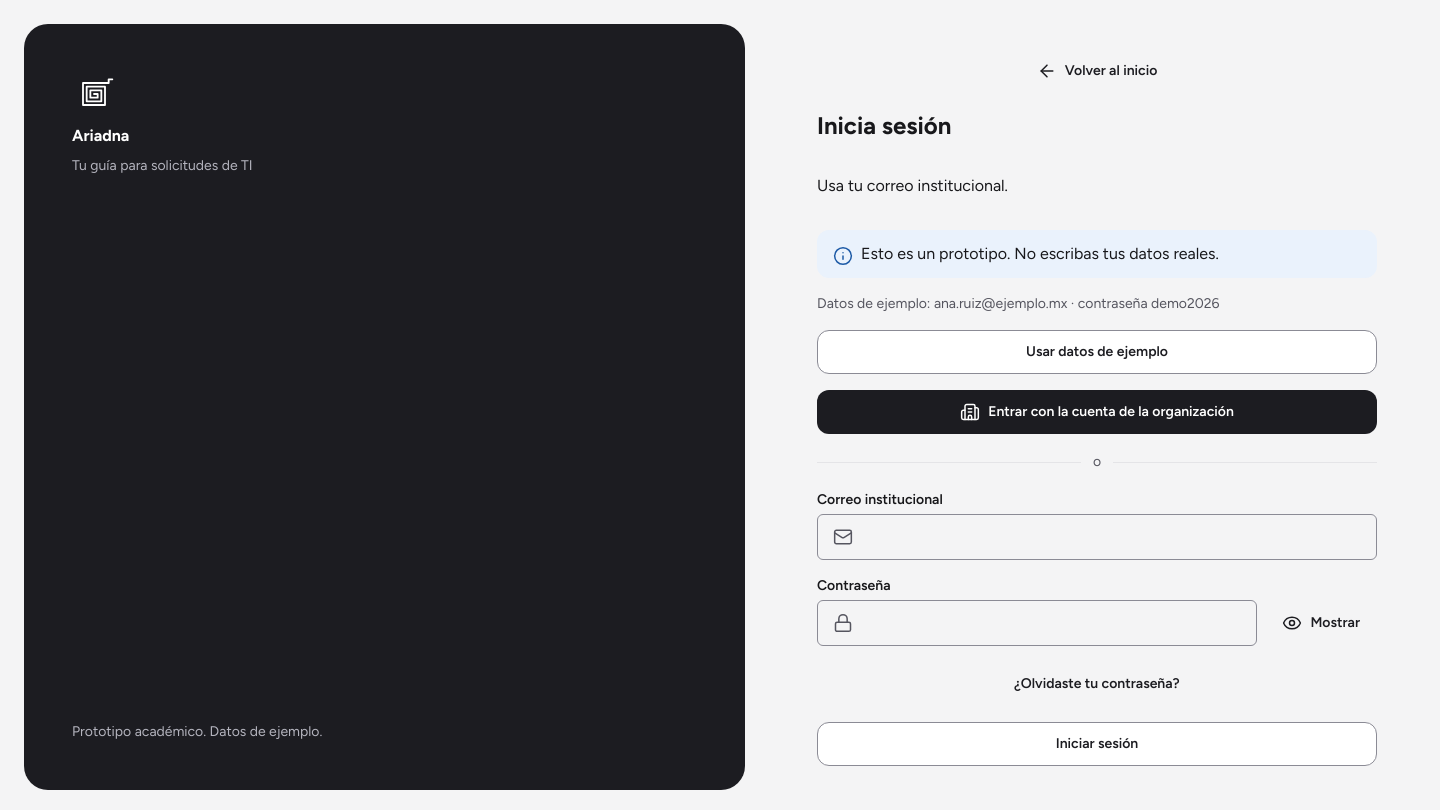
/entrar page › A2 chooser: info note alert, no primary button, ghost «Usar otra cuenta» (REQ-A2-M1)
The width and height of the screenshot is (1440, 810).
Click the button "Entrar con la cuenta de la organización".
click(1097, 412)  # box 817,390 -> 1377,434
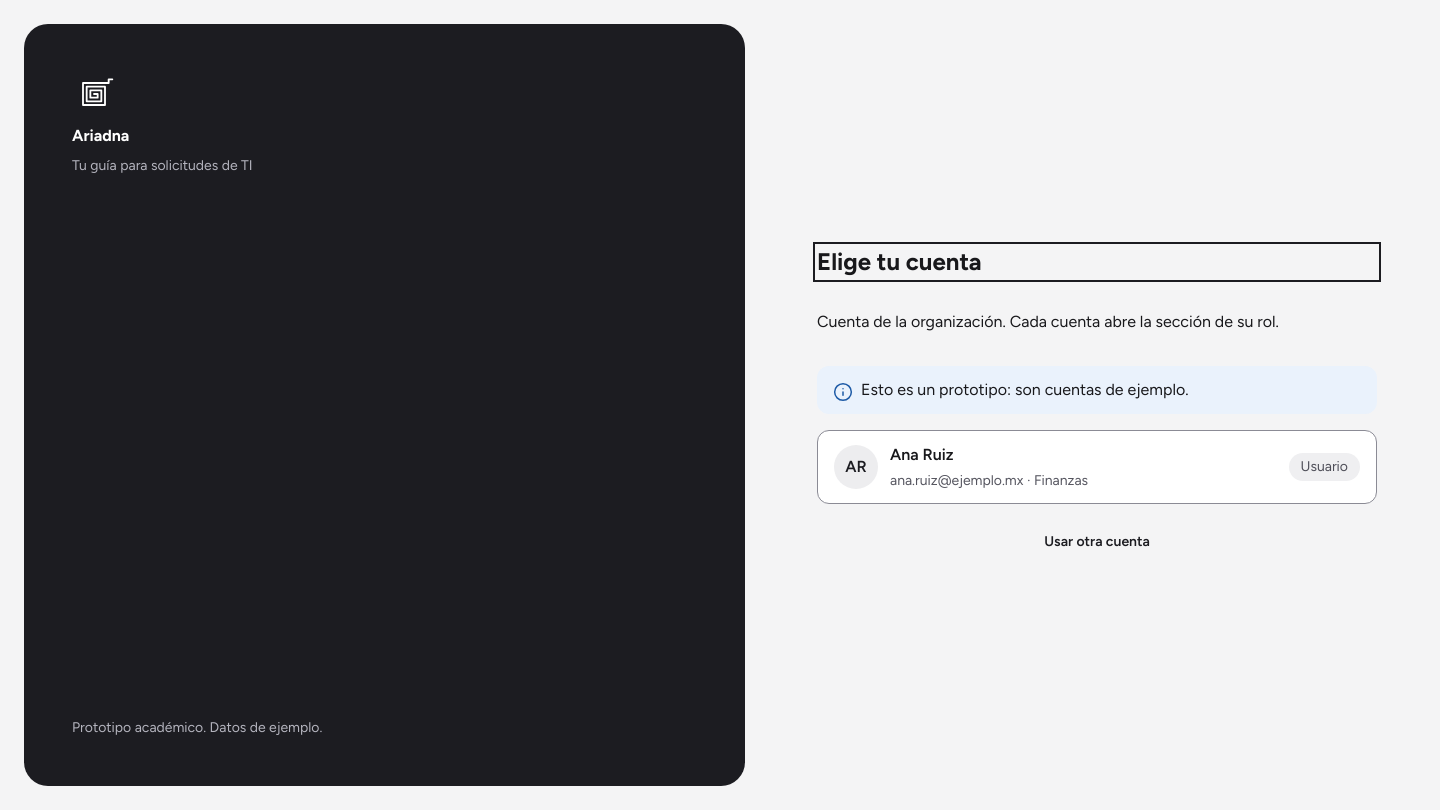
Expected: the icon below "Elige tu cuenta" is shown, 833,382 -> 853,402
Expected: the button "AR Ana Ruiz ana.ruiz@ejemplo.mx · Finanzas Usuario" is shown, 817,430 -> 1377,504
